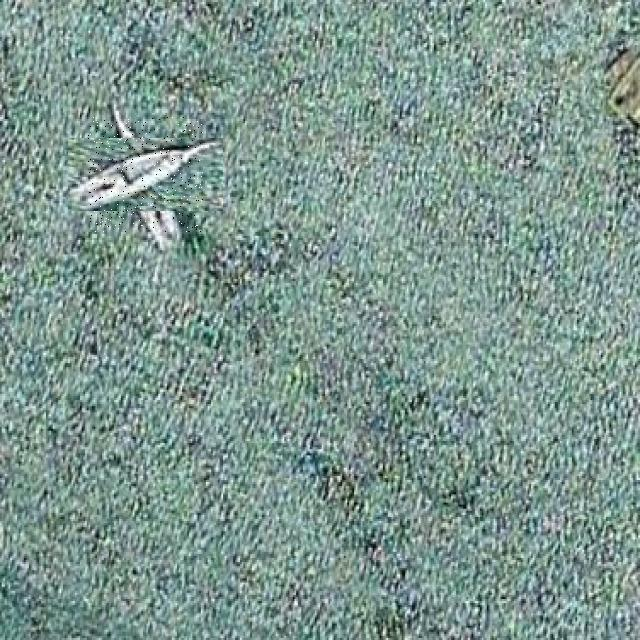boat: (88, 117, 203, 232)
